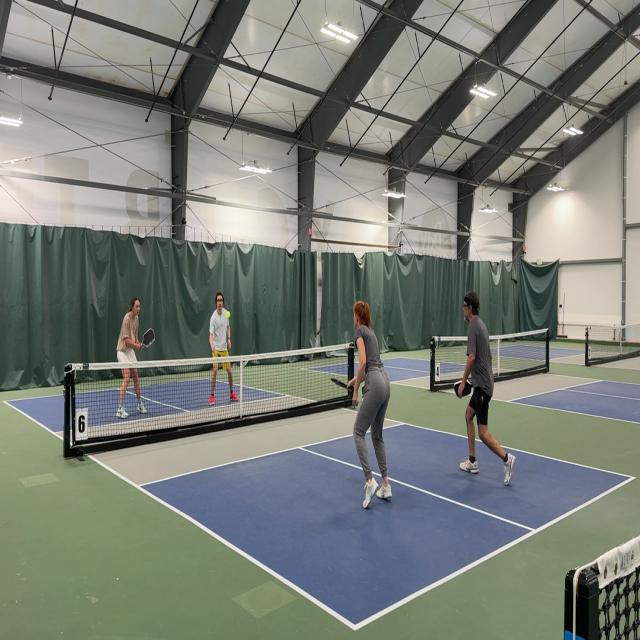ball: (226, 310, 230, 319)
